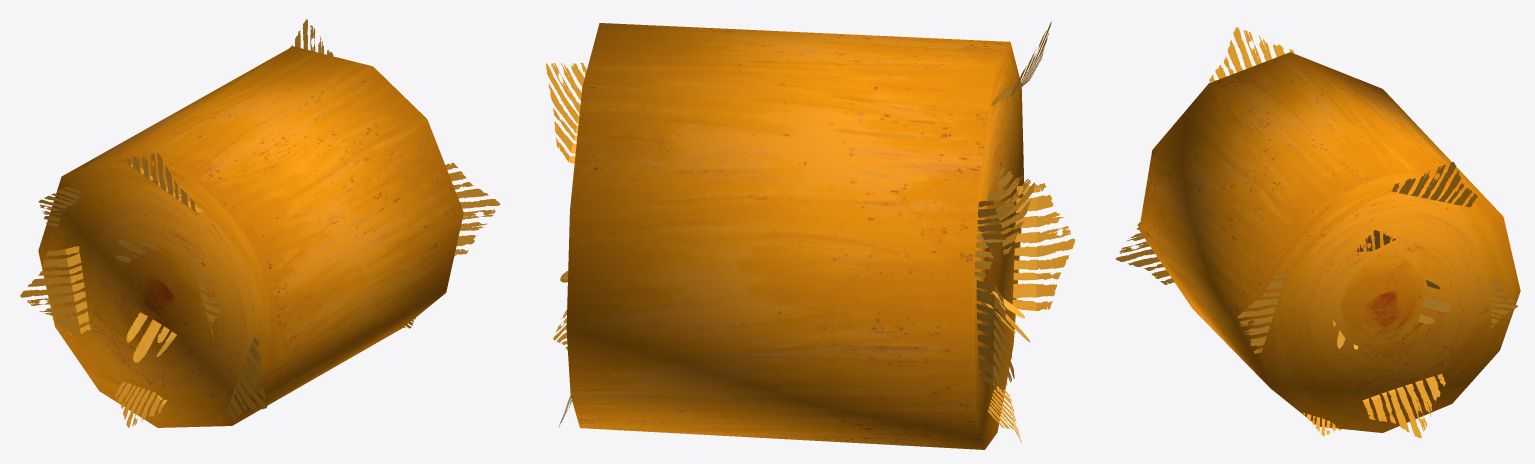
File: HaystackStatic.fbx
The picture shows the model from 3 angles, left to right: view 1: azimuth 30°, elevation 25°; view 2: azimuth 150°, elevation 25°; view 3: azimuth 270°, elevation 25°; orthographic projection. The views are drawn at different scales.
Parts seen in each view (by area): view 1: HaystackStatic; view 2: HaystackStatic; view 3: HaystackStatic.
Boxes of the visible parts, left/top/right/bottom form: HaystackStatic: left=20, top=19, right=499, bottom=427; HaystackStatic: left=546, top=21, right=1074, bottom=449; HaystackStatic: left=1115, top=27, right=1520, bottom=438.
Bounding box in the file's own units: 46.36 × 33.46 × 42.62.
